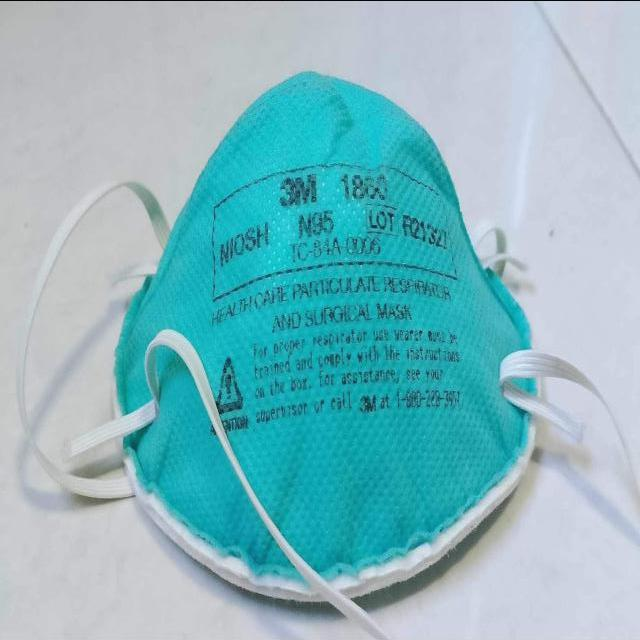General: (14, 68, 633, 630)
Sharps: (139, 327, 392, 639)
